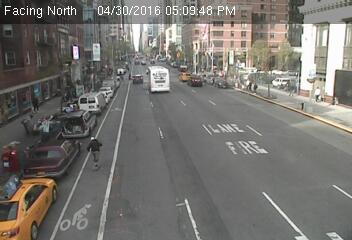neg: (212, 137, 234, 167), (183, 68, 202, 93), (158, 127, 174, 149), (28, 164, 42, 183), (296, 98, 308, 115), (302, 52, 314, 68), (65, 95, 77, 110), (245, 103, 256, 117), (131, 71, 142, 85), (214, 78, 224, 91), (233, 54, 242, 66), (154, 71, 163, 83)
pos: (81, 133, 108, 168), (36, 113, 55, 139), (25, 90, 43, 114), (311, 82, 327, 102), (286, 82, 298, 98), (251, 80, 261, 94)
